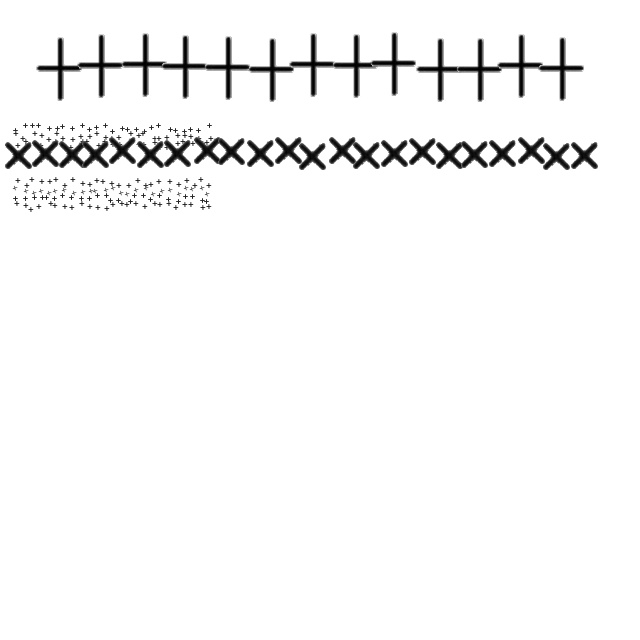double: (74, 34, 126, 100), (494, 34, 546, 100), (118, 34, 170, 98), (158, 36, 210, 100), (286, 34, 338, 98), (202, 36, 252, 102), (246, 38, 296, 104), (330, 34, 380, 100), (368, 32, 418, 98), (414, 38, 464, 104), (454, 38, 504, 104), (34, 38, 84, 102), (536, 38, 586, 102), (56, 136, 90, 172), (106, 132, 140, 168), (134, 136, 168, 172), (272, 132, 306, 168), (296, 138, 330, 174), (326, 132, 360, 168), (458, 136, 492, 172), (540, 138, 574, 174), (2, 138, 36, 172), (244, 136, 278, 170), (350, 138, 384, 172), (378, 136, 412, 170), (406, 134, 440, 168), (486, 136, 520, 170), (568, 138, 602, 172), (80, 136, 112, 172), (192, 132, 224, 168), (516, 132, 548, 168), (30, 136, 62, 170), (162, 136, 194, 170), (216, 134, 248, 168), (434, 138, 466, 172), (60, 124, 66, 130), (70, 126, 76, 132), (120, 126, 126, 132), (196, 128, 202, 134), (20, 136, 26, 142), (60, 136, 66, 142), (78, 134, 84, 140), (87, 134, 93, 140), (109, 136, 115, 142), (152, 136, 158, 142), (156, 136, 162, 142), (188, 134, 194, 140), (196, 136, 202, 142), (208, 136, 214, 142), (63, 144, 69, 150), (110, 142, 116, 148), (117, 142, 123, 148), (136, 142, 142, 148), (141, 142, 147, 148), (152, 140, 158, 146), (204, 140, 210, 146), (15, 178, 21, 184), (87, 182, 93, 188), (94, 178, 100, 184), (135, 178, 141, 184), (148, 182, 154, 188), (176, 182, 182, 188), (184, 178, 190, 184), (12, 185, 18, 191), (23, 188, 29, 194), (31, 190, 37, 196), (38, 188, 44, 194), (46, 190, 52, 196), (52, 188, 58, 194), (61, 187, 67, 193), (71, 190, 77, 196), (80, 189, 86, 195), (88, 188, 94, 194), (92, 188, 98, 194), (103, 187, 109, 193), (110, 185, 116, 191), (118, 190, 124, 196), (124, 191, 130, 197), (133, 187, 139, 193), (143, 185, 149, 191), (150, 191, 156, 197), (159, 188, 165, 194), (167, 187, 173, 193), (176, 191, 182, 197), (183, 185, 189, 191), (189, 186, 195, 192), (199, 185, 205, 191), (204, 191, 210, 197), (52, 196, 58, 202), (108, 198, 114, 204), (116, 198, 122, 204), (190, 194, 196, 200), (200, 198, 206, 204), (36, 204, 42, 210), (62, 204, 68, 210), (87, 204, 93, 210), (104, 206, 110, 212), (110, 202, 116, 208), (124, 202, 130, 208), (142, 204, 148, 210), (157, 202, 163, 208), (182, 202, 188, 208), (188, 202, 194, 208), (206, 204, 212, 210), (14, 128, 18, 134), (30, 124, 36, 128), (36, 124, 42, 128), (48, 126, 52, 132), (56, 126, 60, 132), (80, 124, 86, 128), (94, 126, 100, 130), (110, 130, 116, 134), (134, 128, 140, 132), (142, 130, 148, 134), (156, 124, 162, 128), (168, 128, 174, 132), (174, 128, 178, 134), (182, 130, 188, 134), (188, 128, 194, 132), (13, 132, 19, 136), (32, 132, 38, 136), (39, 134, 45, 138), (46, 138, 52, 142), (54, 132, 60, 136), (70, 138, 76, 142), (94, 132, 100, 136), (103, 136, 109, 140), (116, 136, 122, 140), (128, 132, 134, 136), (136, 134, 142, 138), (140, 132, 146, 136), (164, 136, 170, 140), (175, 134, 181, 138), (182, 134, 188, 138), (15, 144, 21, 148), (23, 140, 29, 144), (32, 142, 38, 146), (38, 144, 44, 148), (48, 146, 54, 150), (53, 140, 59, 144), (68, 146, 74, 150), (80, 140, 86, 144), (84, 140, 90, 144), (96, 144, 102, 148), (102, 140, 108, 144), (125, 144, 131, 148), (157, 146, 163, 150), (164, 146, 170, 150), (175, 142, 181, 146), (180, 140, 186, 144), (190, 142, 196, 146), (200, 142, 206, 146), (24, 184, 30, 188), (29, 178, 35, 182), (39, 180, 45, 184), (47, 180, 53, 184), (53, 178, 59, 182), (62, 184, 68, 188), (70, 178, 76, 182), (80, 182, 86, 186), (100, 180, 106, 184), (109, 182, 115, 186), (116, 184, 122, 188), (126, 184, 132, 188), (143, 184, 149, 188), (156, 180, 162, 184), (167, 180, 173, 184), (192, 184, 198, 188), (198, 178, 204, 182), (206, 184, 212, 188), (14, 196, 18, 202), (24, 196, 28, 202), (32, 196, 38, 200), (40, 196, 46, 200), (44, 196, 50, 200), (60, 194, 66, 198), (80, 196, 84, 202), (88, 196, 92, 202), (104, 194, 110, 198), (128, 200, 134, 204), (132, 194, 138, 198), (148, 198, 154, 202), (166, 198, 172, 202), (176, 200, 182, 204), (184, 194, 188, 200), (204, 200, 210, 204), (14, 202, 20, 206), (23, 204, 29, 208), (28, 208, 34, 212), (48, 202, 54, 206), (52, 204, 58, 208), (69, 206, 75, 210), (79, 202, 85, 206), (95, 206, 101, 210), (119, 202, 125, 206), (133, 202, 139, 206), (152, 202, 158, 206), (166, 202, 172, 206), (173, 206, 179, 210), (200, 206, 206, 210), (24, 124, 28, 128), (88, 128, 92, 132), (104, 124, 108, 128), (126, 128, 130, 132), (150, 126, 154, 130), (208, 124, 212, 128), (70, 196, 74, 200), (96, 194, 100, 198), (142, 194, 146, 198), (158, 194, 162, 198)
